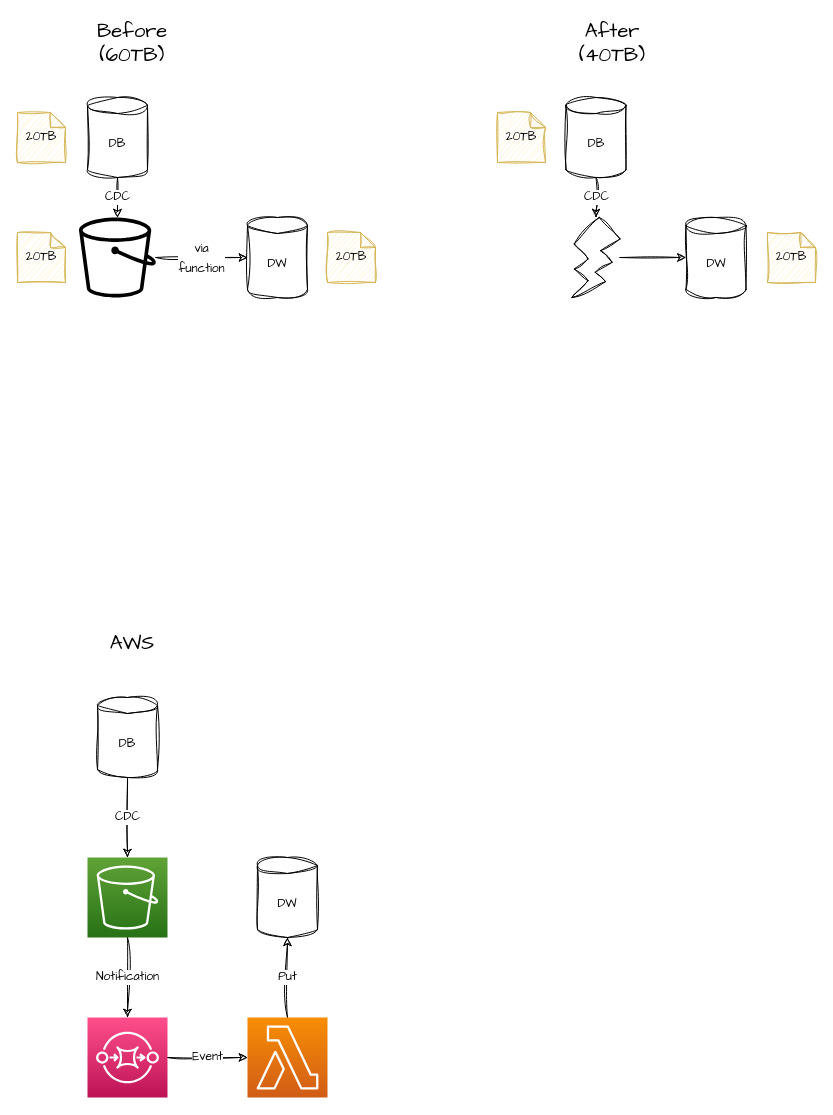
Image size: 833x1115. Some labels were removed from this diagram. The shapes that lost their labels are listed below. From the top down, each one's box as (x1, y1, x2, y2) in pixels, then its label:
(78, 217, 155, 297): S3
(571, 216, 620, 298): Adapter
